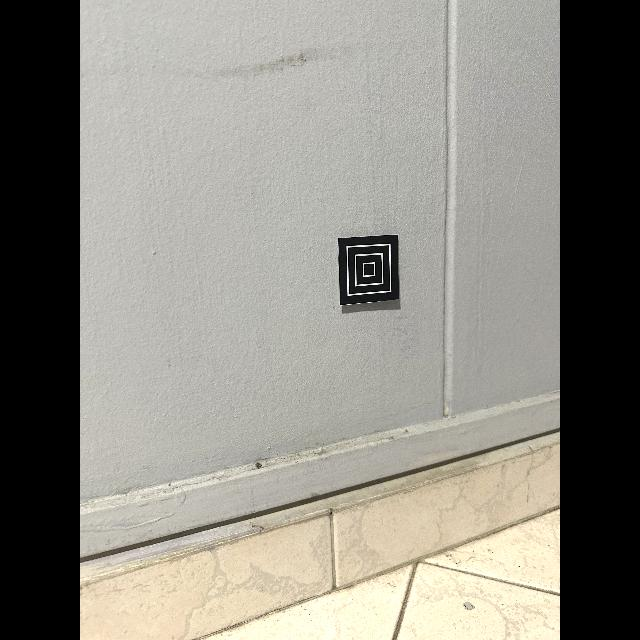BULLSEYE: (338, 235, 399, 307)
